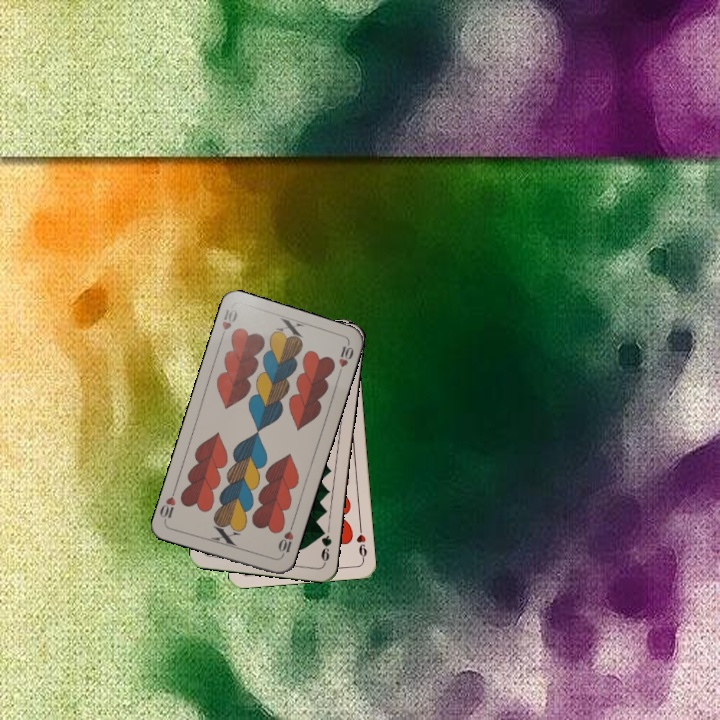G9: (316, 525, 334, 566)
H10: (216, 304, 240, 343), (274, 521, 296, 560)
H9: (352, 522, 369, 562)
